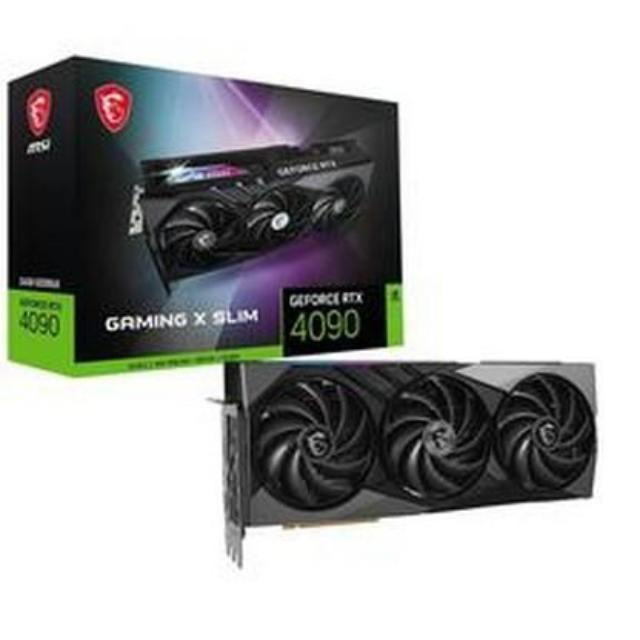GPU: (210, 358, 610, 544)
